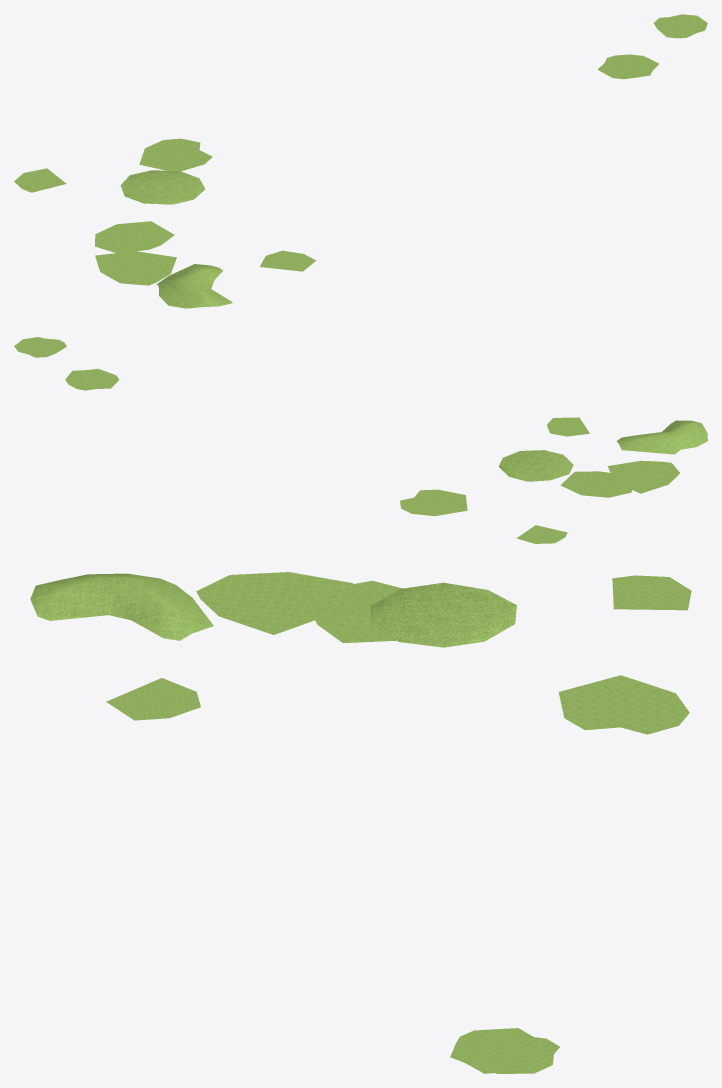
File: kd_connection_world-outer_surface_6_0.glb
3 renders of one model, top to bottom at view 1: azimuth 30°, elevation 25°; view 2: azimuth 150°, elevation 25°; view 3: azimuth 270°, elevation 25°, orthographic. The views are drawn at different scales.
Parts seen in each view (by area): view 1: kd_connection_world-outer_surface_6_0; view 2: kd_connection_world-outer_surface_6_0; view 3: kd_connection_world-outer_surface_6_0.
Boxes of the visible parts, bbox=[...] form: kd_connection_world-outer_surface_6_0: bbox=[14, 14, 707, 308]; kd_connection_world-outer_surface_6_0: bbox=[14, 337, 707, 543]; kd_connection_world-outer_surface_6_0: bbox=[30, 572, 691, 1073].
Bounding box in the file's own units: 1040 × 64.74 × 502.
Materials: 1 (1 with a texture image).
